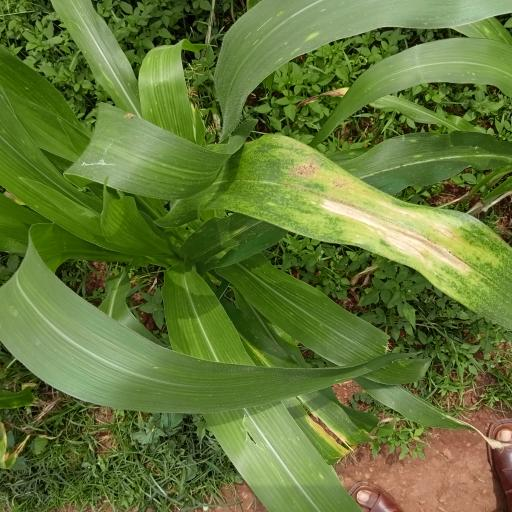Corn_Brown_Spots: (220, 133, 512, 334)
